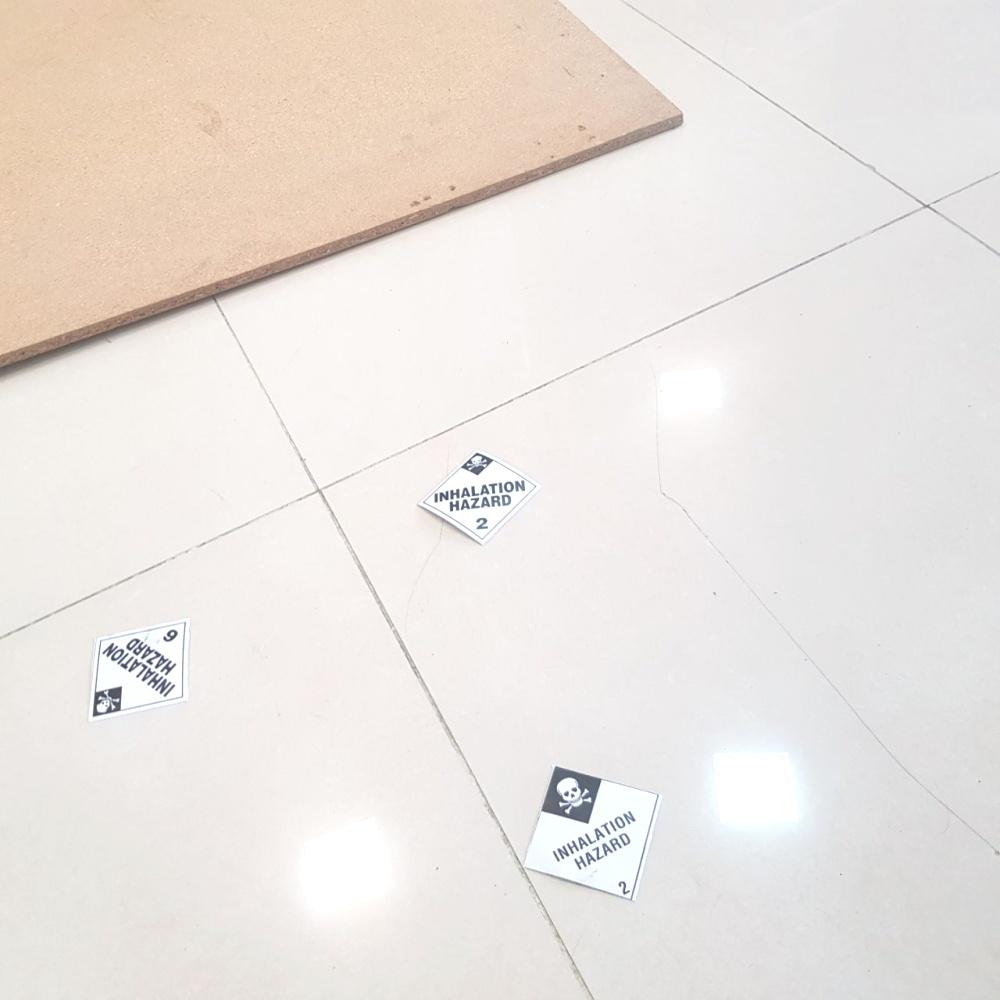poison: (524, 763, 661, 901), (418, 451, 537, 548), (94, 616, 193, 718)
